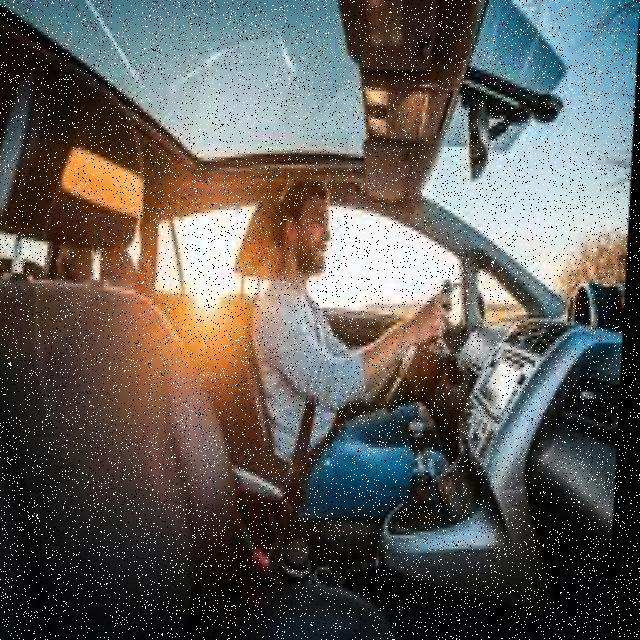seatbelt: (253, 271, 368, 471)
